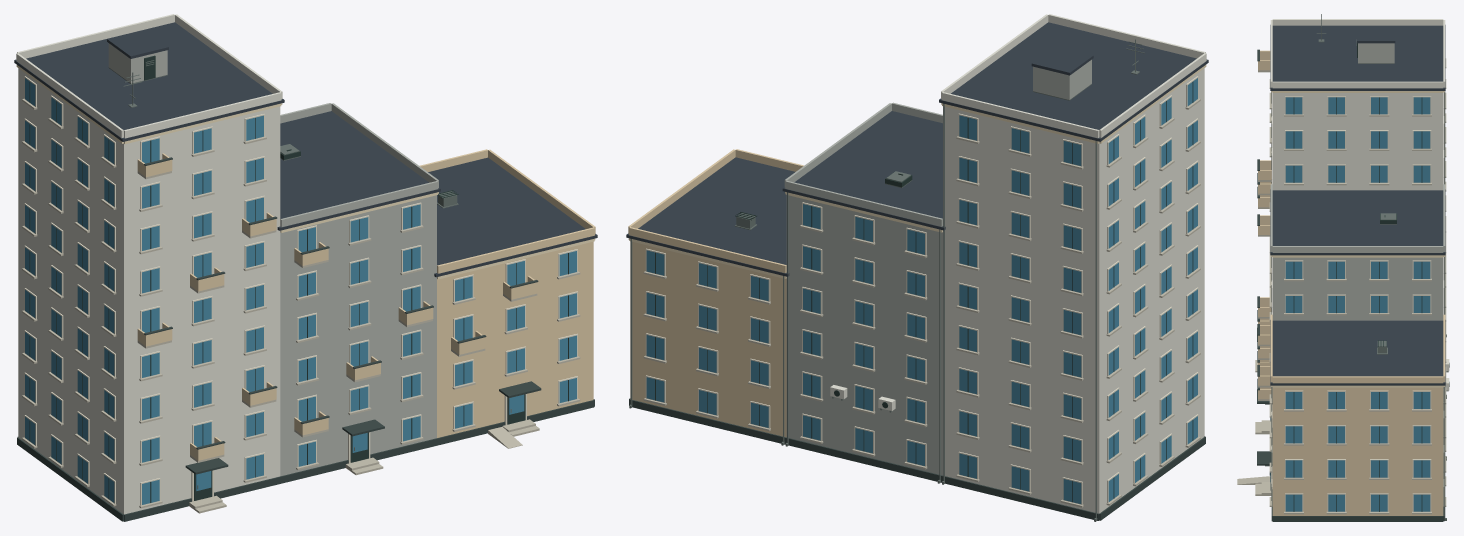
The model's file is Stepped469.obj.
The picture shows the model from 3 angles, left to right: view 1: azimuth 30°, elevation 25°; view 2: azimuth 150°, elevation 25°; view 3: azimuth 270°, elevation 25°; orthographic projection. The views are drawn at different scales.
Visible parts, largest first — view 1: Stepped469; view 2: Stepped469; view 3: Stepped469.
Boxes of the visible parts, left/top/right/bottom form: Stepped469: left=14, top=14, right=597, bottom=521; Stepped469: left=626, top=14, right=1208, bottom=521; Stepped469: left=1237, top=14, right=1449, bottom=521.
Size of the model in its own units: 36.5 by 30.56 by 17.42.
Materials: 1 (1 with a texture image).
